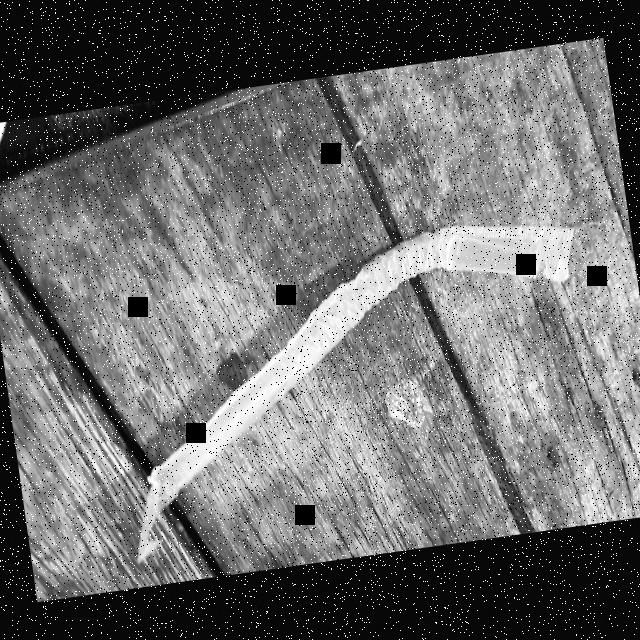scrap_plastic: (94, 218, 617, 566)
